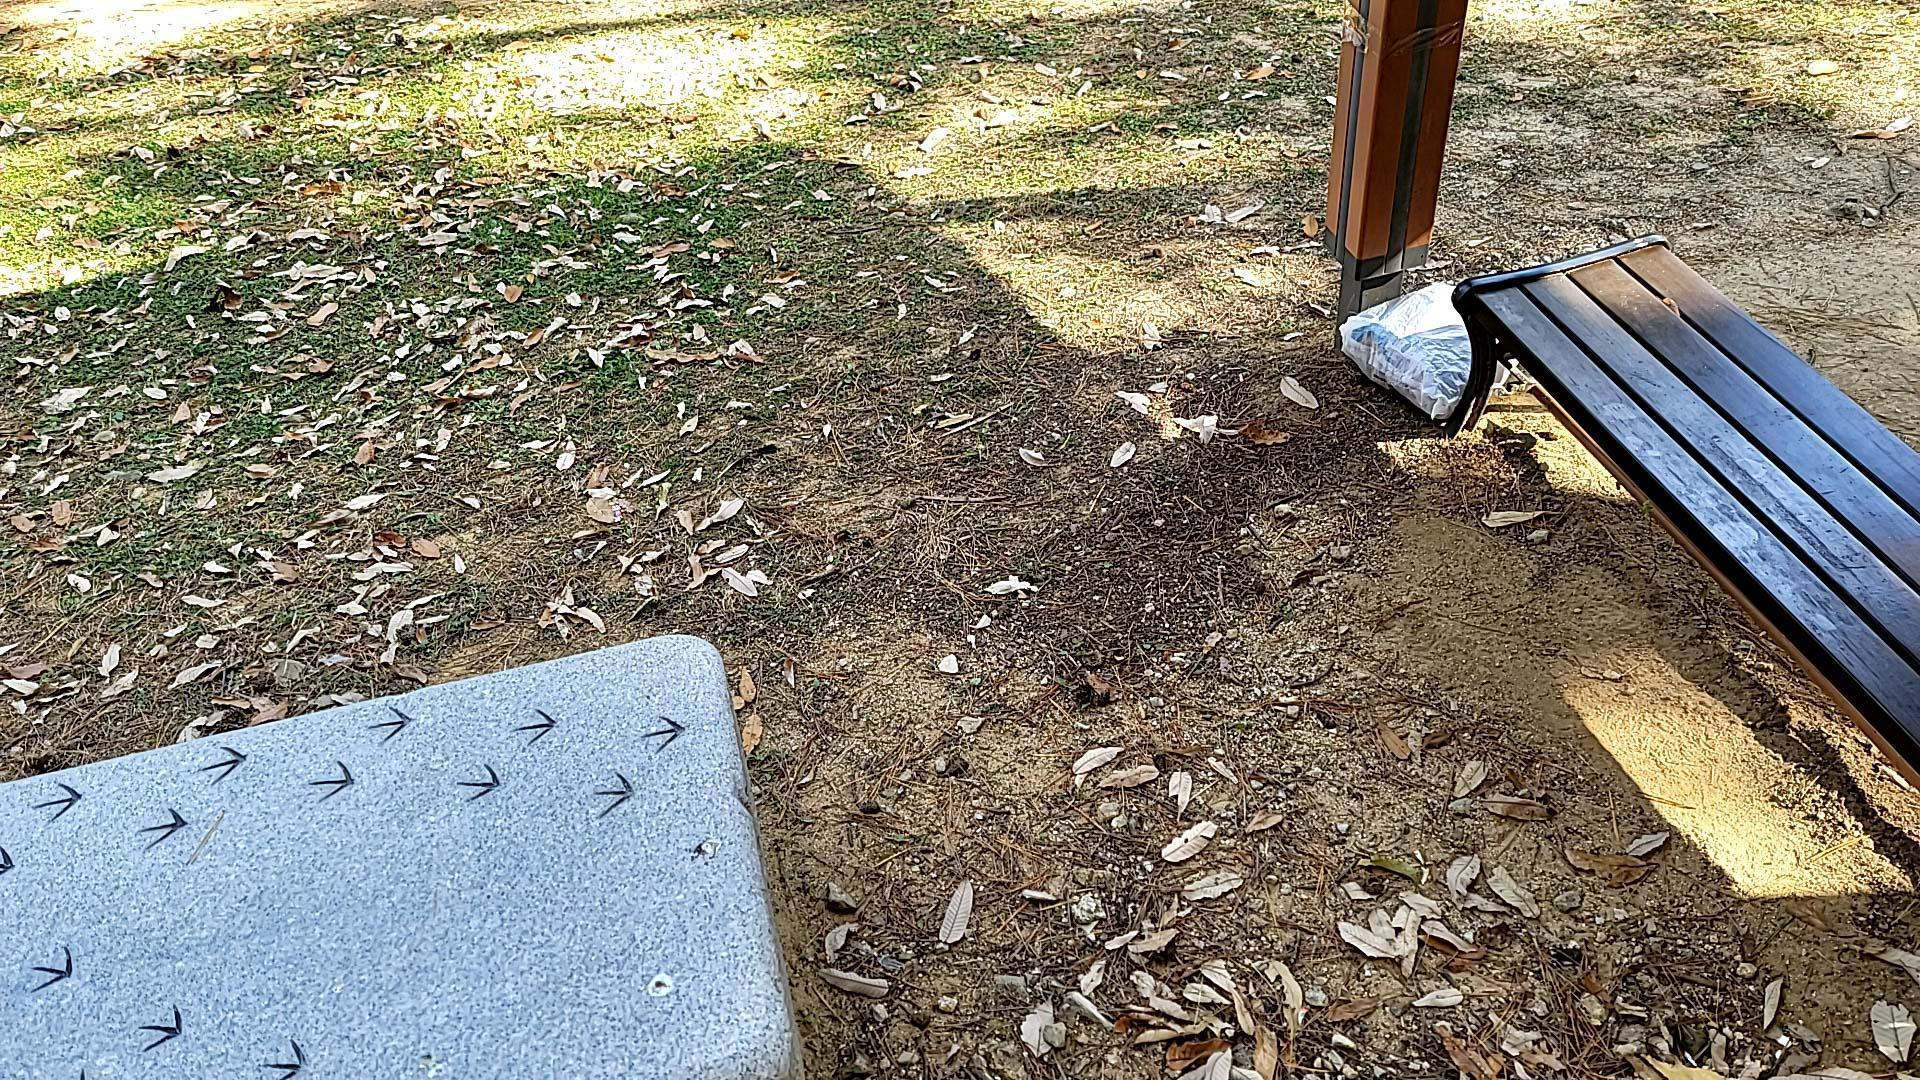white_bag: (1332, 272, 1552, 422)
